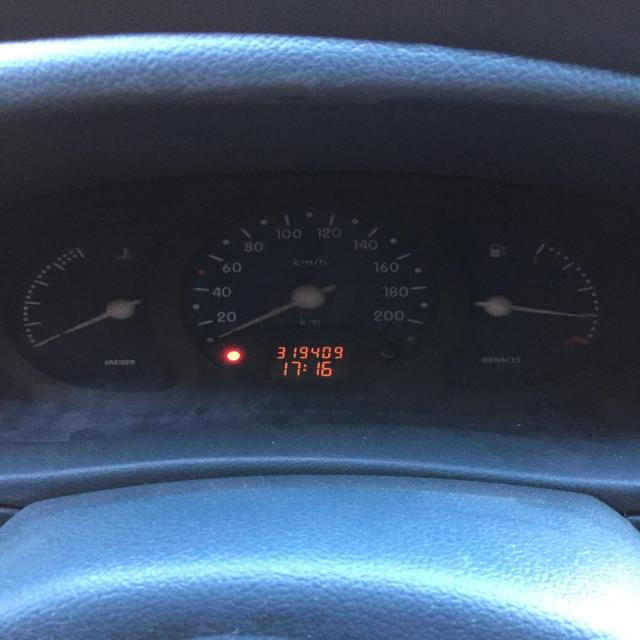odometer: (266, 342, 354, 382)
